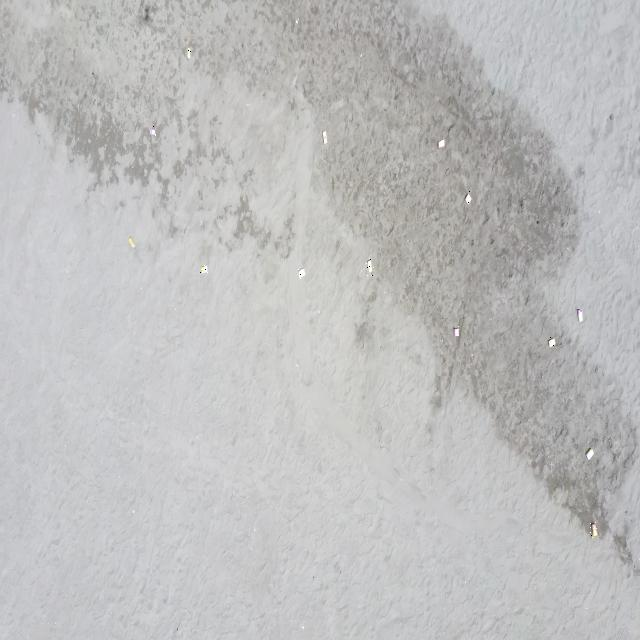Garbage: (576, 307, 583, 322), (584, 448, 592, 459), (367, 259, 372, 276), (148, 123, 154, 136), (128, 236, 135, 247), (464, 191, 470, 203), (590, 522, 595, 536), (452, 326, 459, 336), (322, 129, 327, 143), (437, 139, 444, 148), (548, 337, 555, 346), (200, 263, 207, 272), (184, 48, 191, 57), (299, 268, 304, 278), (296, 18, 297, 24)
